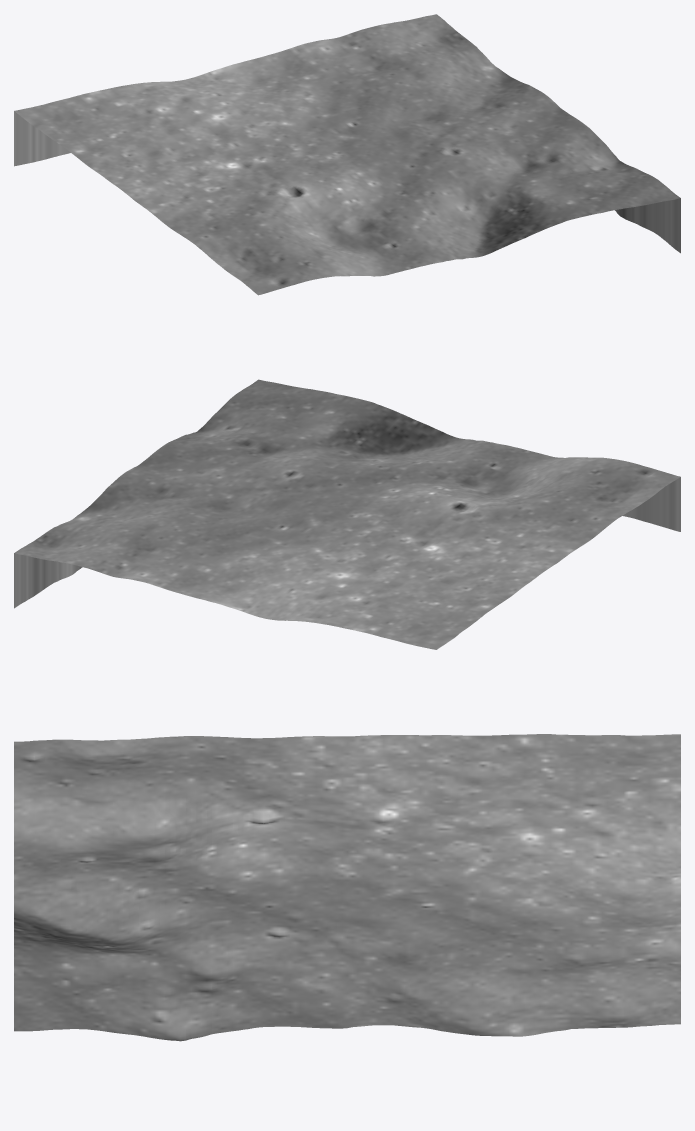
3 renders of one model, top to bottom at view 1: azimuth 30°, elevation 25°; view 2: azimuth 150°, elevation 25°; view 3: azimuth 270°, elevation 25°, orthographic. The views are drawn at different scales.
Bounding box in the file's own units: 638 × 112 × 639.
Materials: 1 (1 with a texture image).
